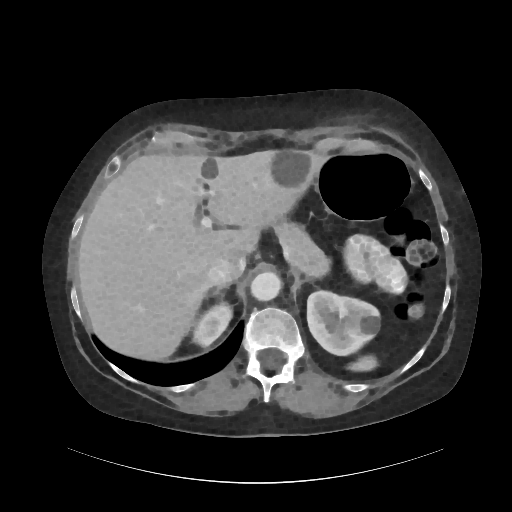Lesion: (353, 311, 385, 337)
